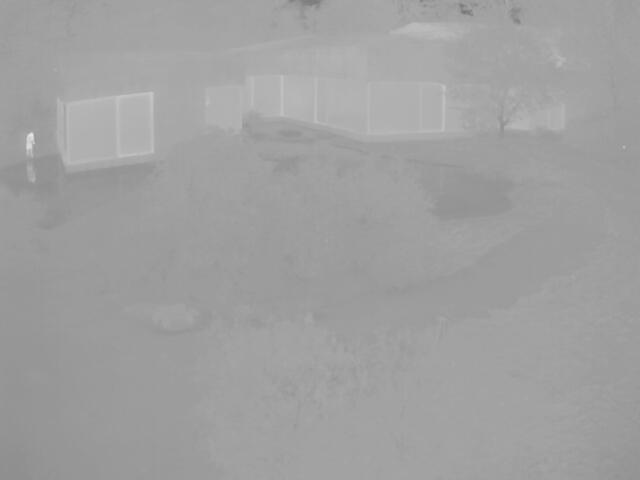person: (22, 130, 34, 157)
